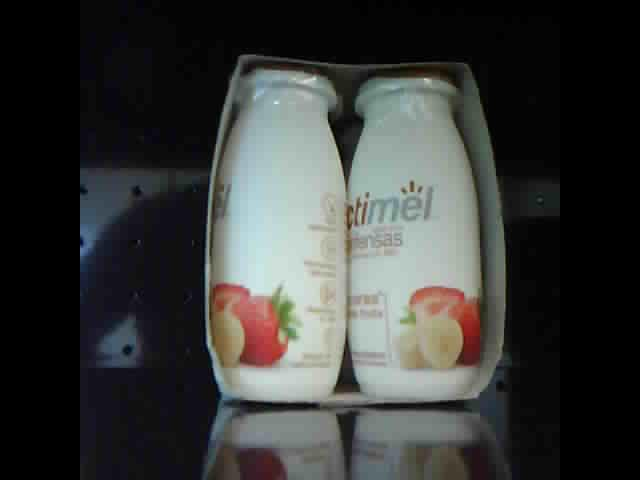actimel: (206, 51, 506, 405)
